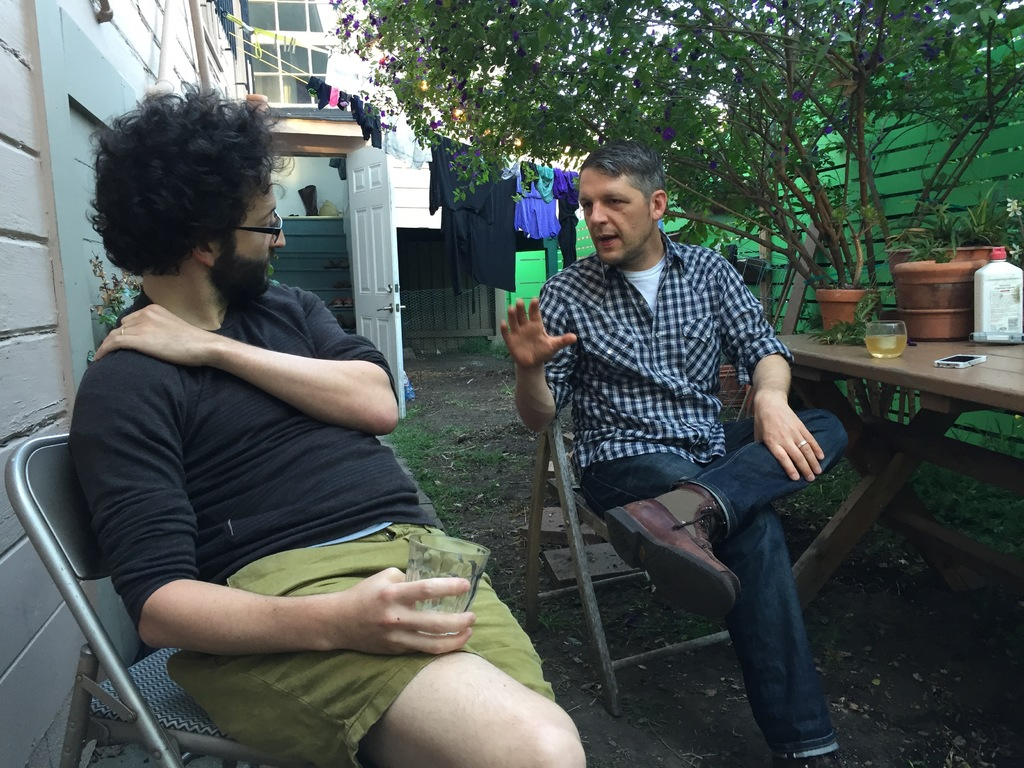Tree: (332, 0, 1022, 303)
